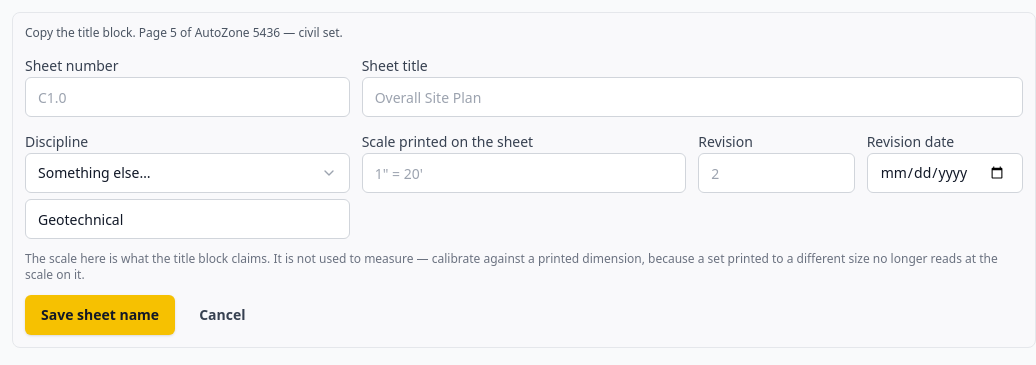
Scenario: naming a sheet › takes a discipline nobody listed
This screenshot has width=1036, height=365.
Check: the field named "Discipline" holds "Geotechnical", box [25,199,350,239]
Step 1. Type "G1" into the field labelled "Sheet number" → (187, 97), box [25,77,350,117]
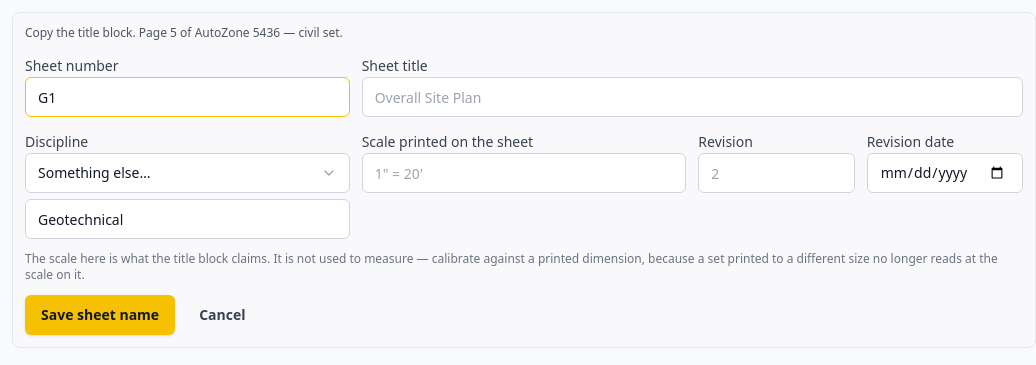
Step 2. Click the button "Save sheet name" → (100, 315), box [25,295,175,335]
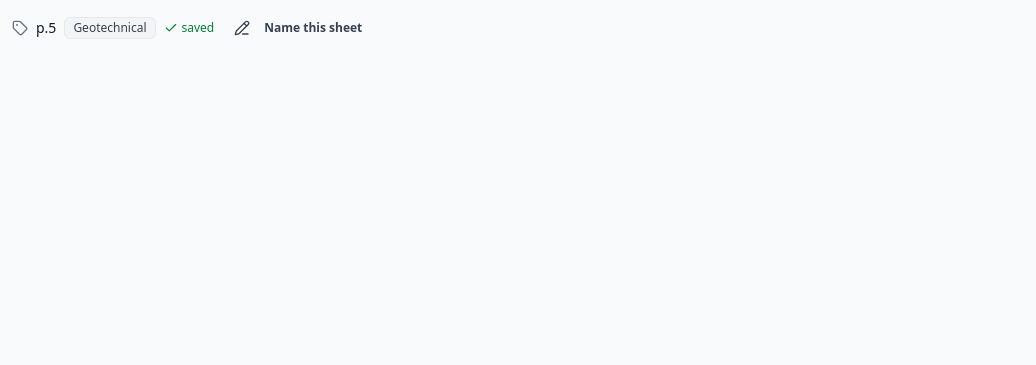
Check: the text "Geotechnical" is shown, box [64,17,156,39]
